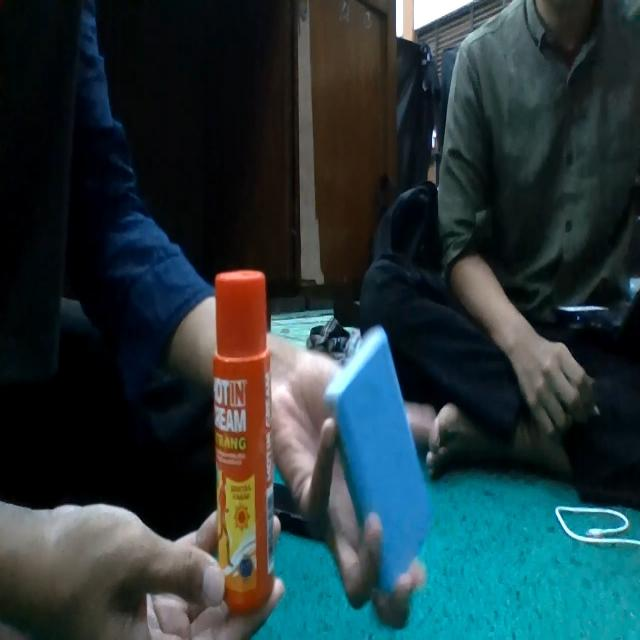Boncabe: (214, 270, 274, 614)
Powerbank: (326, 327, 432, 594)
